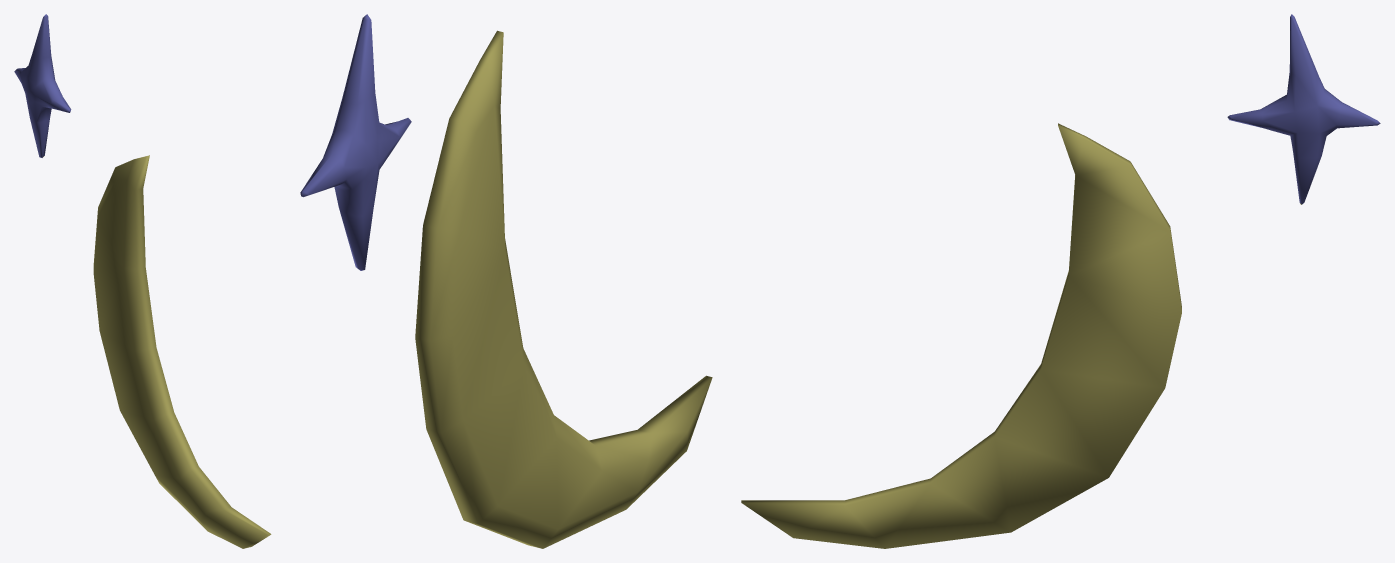
File: MoonStart02.FBX
3 views of the same model, side by side, from view 1: azimuth 30°, elevation 25°; view 2: azimuth 150°, elevation 25°; view 3: azimuth 270°, elevation 25° (orthographic). The views are drawn at different scales.
Parts seen in each view (by area): view 1: MoonStart02; view 2: MoonStart02; view 3: MoonStart02.
Boxes of the visible parts, left/top/right/bottom form: MoonStart02: left=14, top=14, right=271, bottom=548; MoonStart02: left=300, top=14, right=712, bottom=548; MoonStart02: left=741, top=14, right=1380, bottom=548.
Size of the model in its own units: 4.61 by 73.87 by 67.05.
